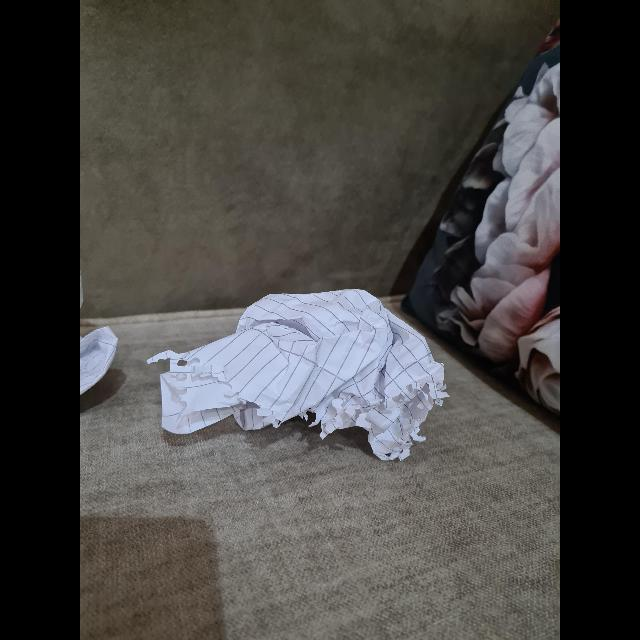scrap_paper: (155, 284, 445, 446)
